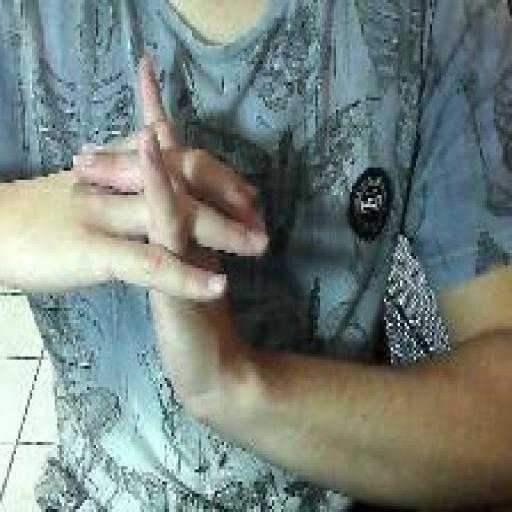Ushi -ox-: (69, 50, 272, 453)
